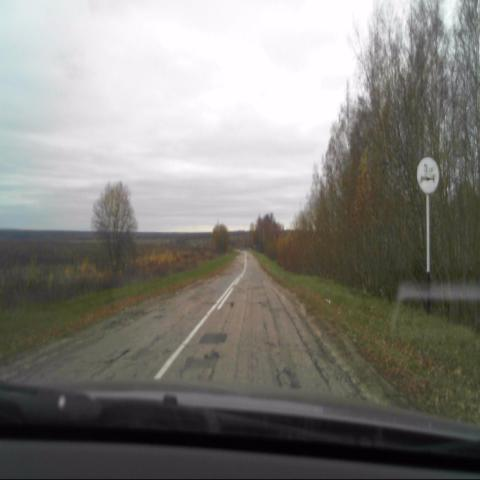3_12: (416, 155, 441, 193)
